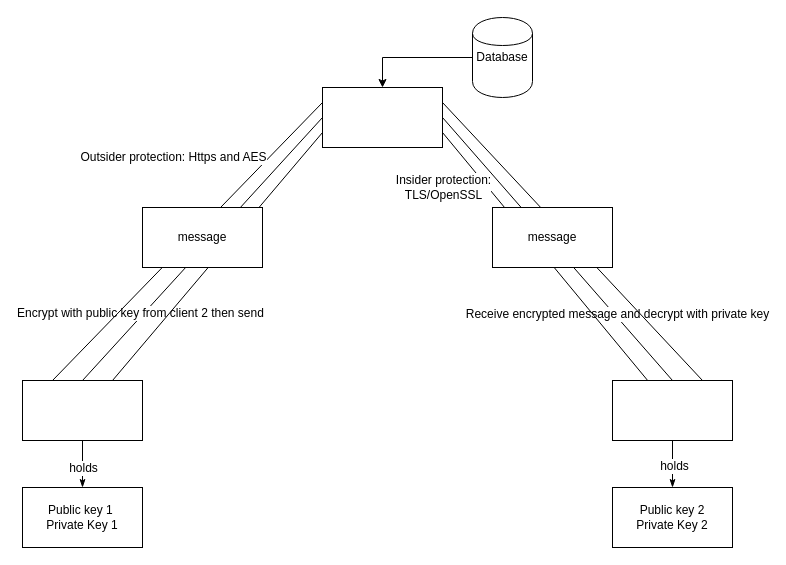
The diagram is 786 pixels wide and 565 high, and some of its shapes have lost their labels. The box of each missing label's shape, as (x1, y1, x2, y2) in pixels:
Client 1: (22, 380, 142, 440)
Client 2: (612, 380, 732, 440)
Server: (322, 86, 442, 148)
